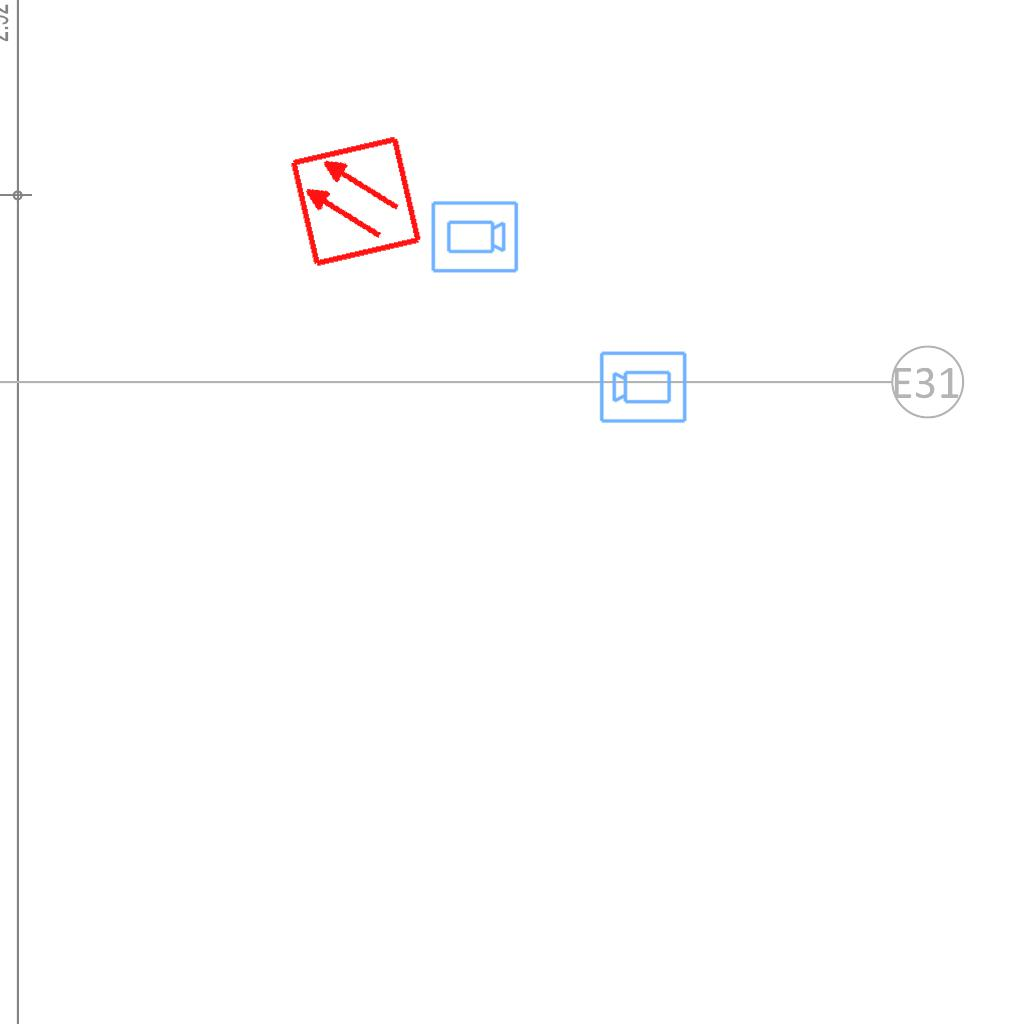KFO_Kamera_mit_Festobjektiv: (429, 199, 520, 276), (598, 348, 689, 425)
RMO_Rauchmelder_optischer: (287, 133, 424, 270)
